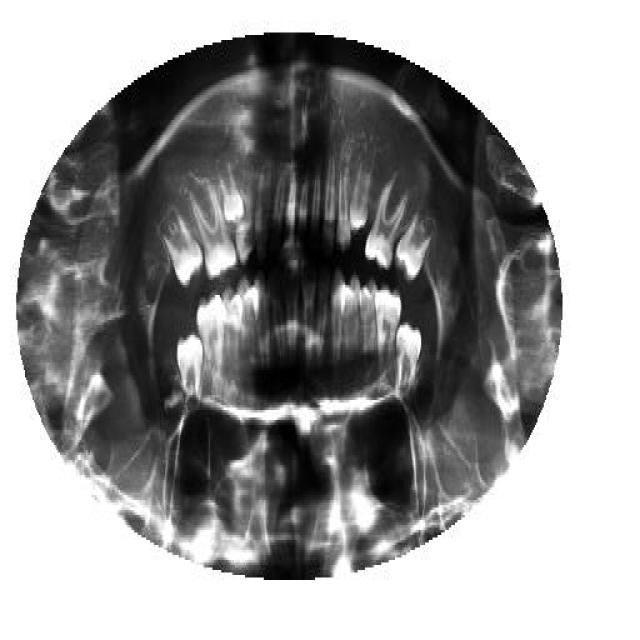Impacted Tooth: (176, 332, 204, 400)
